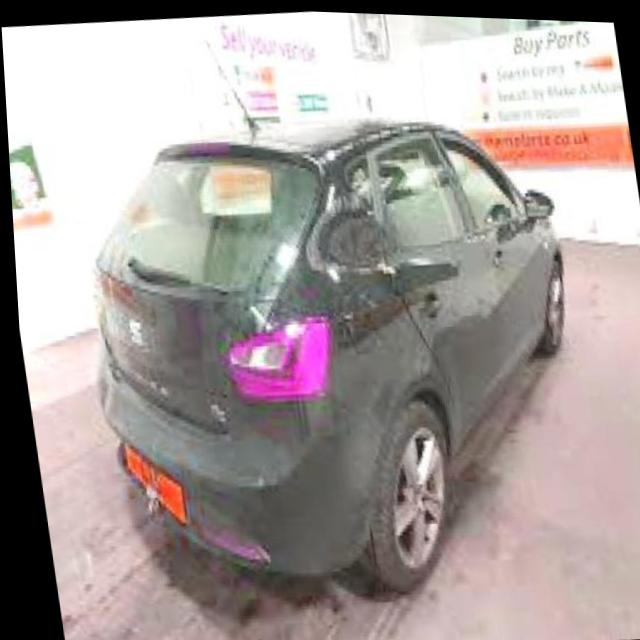Car-Damage: (299, 190, 399, 285)
